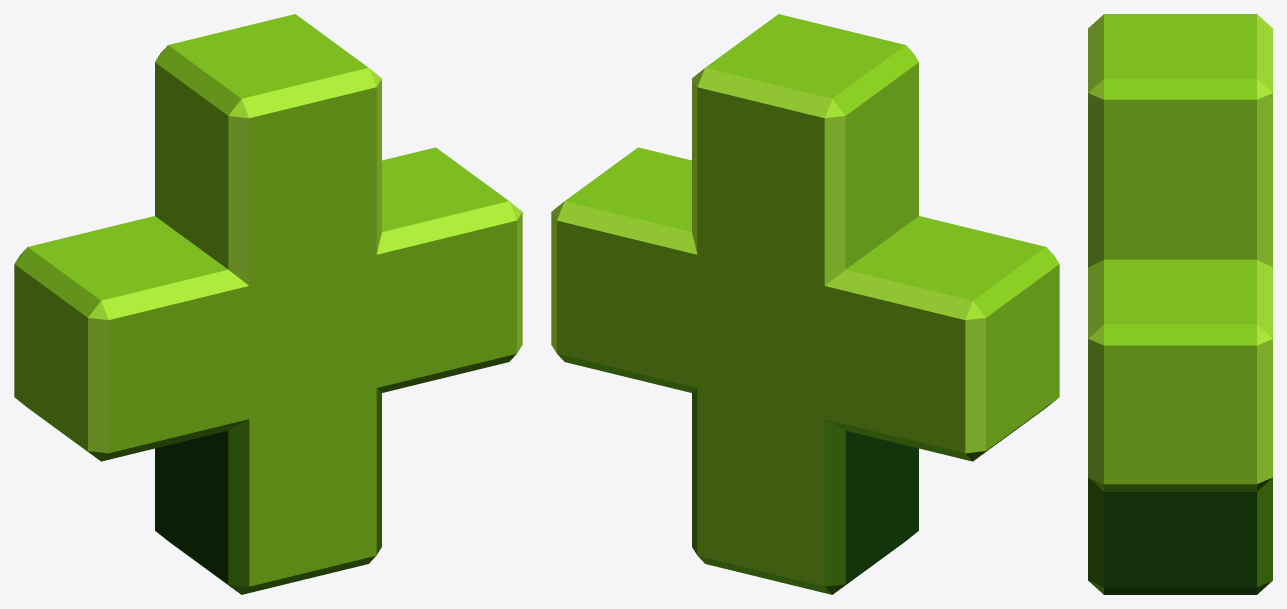
The model's file is 3d_HealthPoints_Plus.fbx.
The picture shows the model from 3 angles, left to right: view 1: azimuth 30°, elevation 25°; view 2: azimuth 150°, elevation 25°; view 3: azimuth 270°, elevation 25°; orthographic projection. The views are drawn at different scales.
Visible parts, largest first — view 1: GEO_HealthPoints_Plus; view 2: GEO_HealthPoints_Plus; view 3: GEO_HealthPoints_Plus.
Boxes of the visible parts, x1=… form: GEO_HealthPoints_Plus: x1=14, y1=14, x2=522, y2=594; GEO_HealthPoints_Plus: x1=551, y1=14, x2=1059, y2=594; GEO_HealthPoints_Plus: x1=1088, y1=14, x2=1272, y2=594.
Size of the model in its own units: 0.3392 by 0.12 by 0.37.
